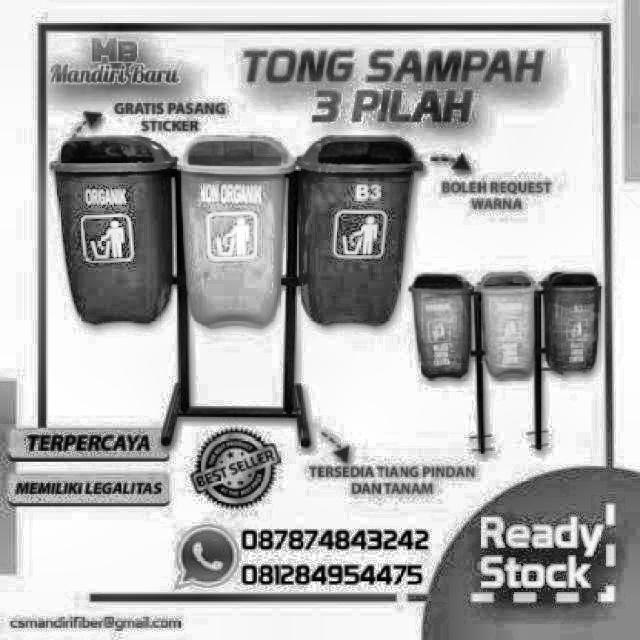Dustbin: (293, 126, 427, 340), (49, 132, 174, 354), (178, 130, 292, 335), (406, 270, 482, 390), (476, 266, 544, 385), (540, 270, 603, 382)
